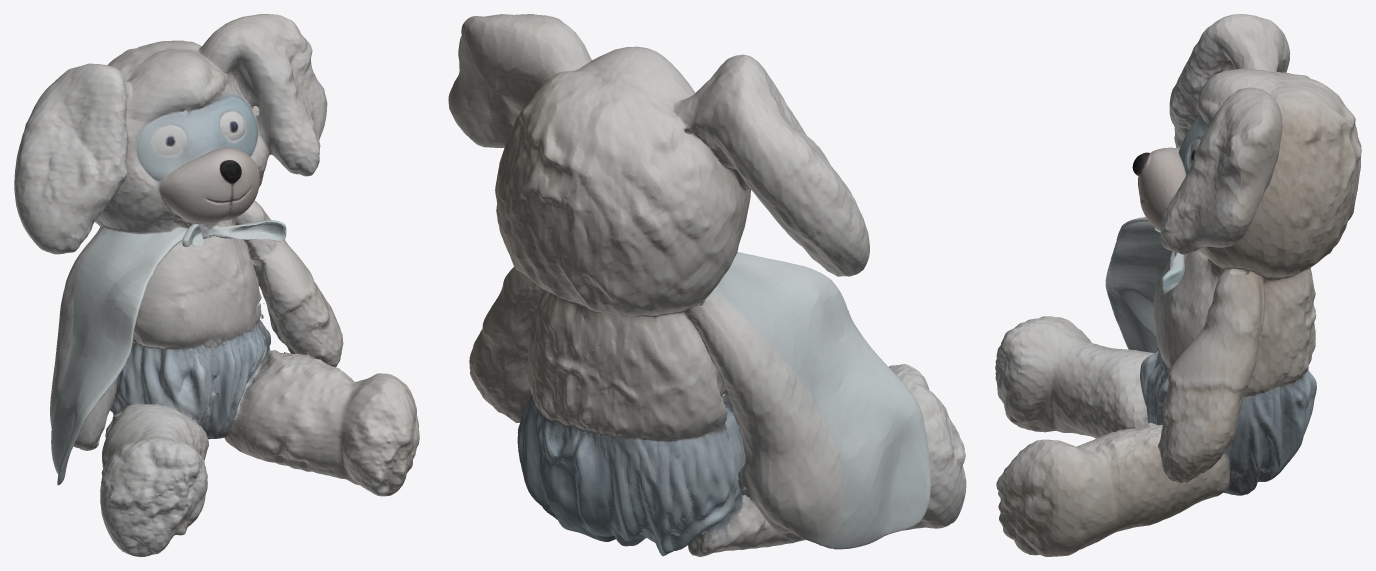
Rendered from result.glb.
The picture shows the model from 3 angles, left to right: view 1: azimuth 30°, elevation 25°; view 2: azimuth 150°, elevation 25°; view 3: azimuth 270°, elevation 25°; orthographic projection. The views are drawn at different scales.
Visible parts, largest first — view 1: world; view 2: world; view 3: world.
Boxes of the visible parts, box(x1,y1,x2,y2) form: world: box(14, 14, 419, 556); world: box(448, 14, 966, 556); world: box(995, 14, 1361, 556).
Bounding box in the file's own units: 0.8357 × 0.9987 × 0.7614.
